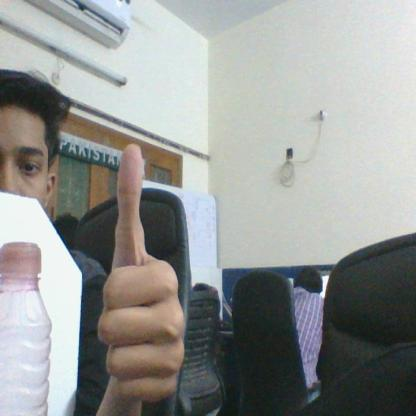thumbs-up: (84, 140, 196, 408)
